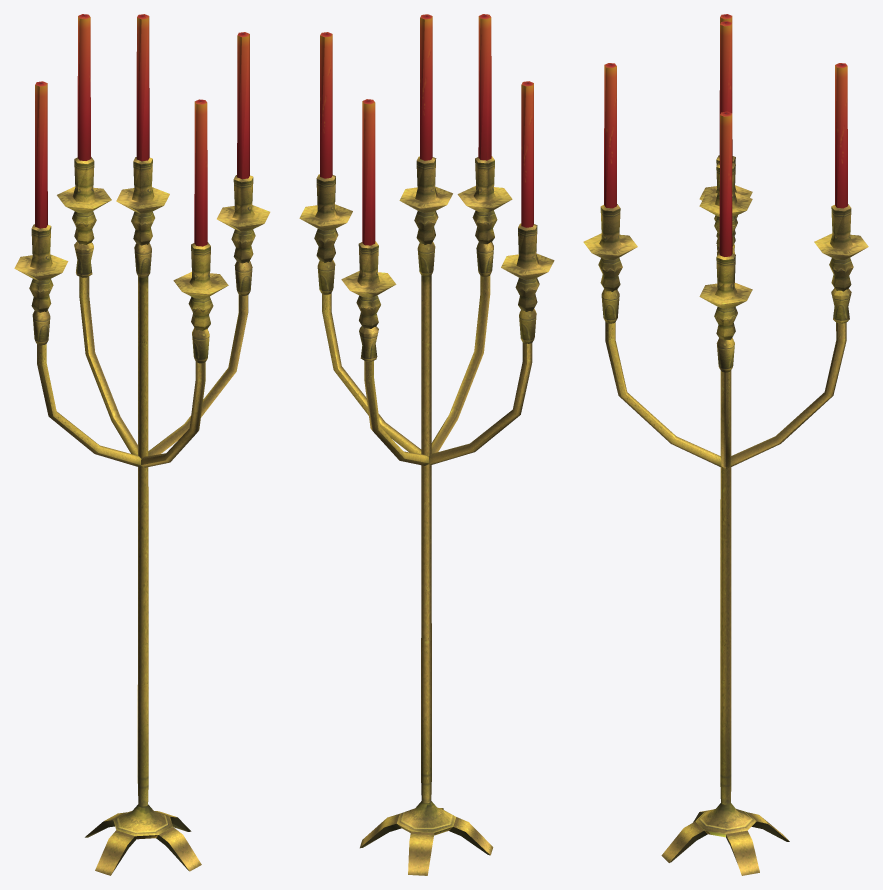
Rendered from chandelier2_lod.fbx.
3 renders of one model, left to right at view 1: azimuth 30°, elevation 25°; view 2: azimuth 150°, elevation 25°; view 3: azimuth 270°, elevation 25°, orthographic.
Parts seen in each view (by area): view 1: Mesh Object; view 2: Mesh Object; view 3: Mesh Object.
Boxes of the visible parts, <box> form: Mesh Object: <box>14,14,270,875</box>; Mesh Object: <box>299,14,554,875</box>; Mesh Object: <box>583,14,868,875</box>.
Size of the model in its own units: 0.9153 by 2.92 by 0.9153.
